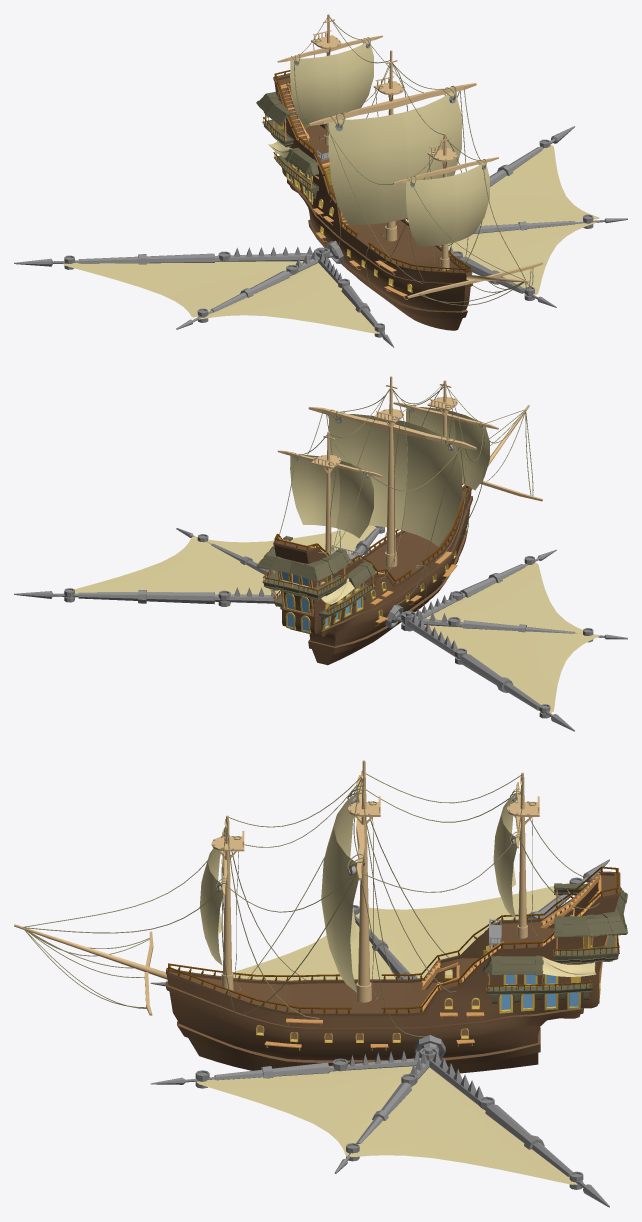
Rendered from megaship.fbx.
3 views of the same model, one above another, from view 1: azimuth 30°, elevation 25°; view 2: azimuth 150°, elevation 25°; view 3: azimuth 270°, elevation 25° (orthographic). The views are drawn at different scales.
Visible parts, largest first — view 1: Cube, Cube.005, Cylinder.007, Cube.006, Cylinder.006, Cube.008, Cylinder.004, Cylinder.059, Cylinder.003, Cylinder.002, NurbsPath.016, Cylinder.005 (+4 smaller); view 2: Cube, Cube.005, Cylinder.007, Cylinder.004, Cylinder.003, Cylinder.059, Cube.008, Cylinder.006, Cube.028, Cylinder.005, NurbsPath.016, Cube.006 (+5 smaller); view 3: Cube, Cylinder.004, Cylinder.002, Cylinder.007, Cylinder.005, Cylinder.003, NurbsPath.016, Cube.028, Cube.005, Cylinder.006, Cube.011, Cube.006 (+9 smaller).
Boxes of the visible parts, x1=… form: Cube: x1=273, y1=73, x2=472, y2=330; Cube.005: x1=328, y1=92, x2=462, y2=224; Cylinder.007: x1=63, y1=261, x2=303, y2=317; Cube.006: x1=406, y1=163, x2=489, y2=246; Cylinder.006: x1=199, y1=263, x2=379, y2=333; Cube.008: x1=290, y1=41, x2=373, y2=124; Cylinder.004: x1=479, y1=145, x2=599, y2=225; Cylinder.059: x1=14, y1=246, x2=394, y2=347; Cylinder.003: x1=277, y1=14, x2=498, y2=270; Cylinder.002: x1=441, y1=222, x2=596, y2=295; NurbsPath.016: x1=277, y1=16, x2=533, y2=305; Cylinder.005: x1=439, y1=126, x2=627, y2=307; Cube: x1=273, y1=485, x2=472, y2=665; Cube.005: x1=328, y1=414, x2=462, y2=546; Cylinder.007: x1=424, y1=625, x2=599, y2=712; Cylinder.004: x1=63, y1=536, x2=280, y2=594; Cylinder.003: x1=277, y1=376, x2=498, y2=567; Cylinder.059: x1=396, y1=549, x2=627, y2=731; Cube.008: x1=290, y1=455, x2=373, y2=538; Cylinder.006: x1=425, y1=562, x2=594, y2=634; Cube.028: x1=256, y1=535, x2=375, y2=625; Cylinder.005: x1=14, y1=526, x2=384, y2=606; NurbsPath.016: x1=278, y1=382, x2=533, y2=605; Cube.006: x1=406, y1=407, x2=489, y2=490; Cube: x1=165, y1=871, x2=620, y2=1073; Cylinder.004: x1=349, y1=1067, x2=576, y2=1184; Cylinder.002: x1=196, y1=1066, x2=415, y2=1156; Cylinder.007: x1=355, y1=882, x2=569, y2=978; Cylinder.005: x1=150, y1=1047, x2=609, y2=1207; Cylinder.003: x1=211, y1=760, x2=539, y2=1002; NurbsPath.016: x1=23, y1=773, x2=599, y2=1037; Cube.028: x1=483, y1=883, x2=627, y2=1003; Cube.005: x1=321, y1=794, x2=358, y2=992; Cylinder.006: x1=233, y1=920, x2=397, y2=980; Cube.011: x1=168, y1=866, x2=619, y2=1009; Cube.006: x1=199, y1=848, x2=223, y2=965.
Bounding box in the file's own units: 10448 × 4382 × 7810.
